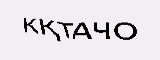Д: (62, 22, 78, 50)
И: (41, 21, 61, 43)
Т: (27, 19, 42, 40)
Ч: (101, 22, 123, 51)
Ю: (79, 22, 100, 49)
